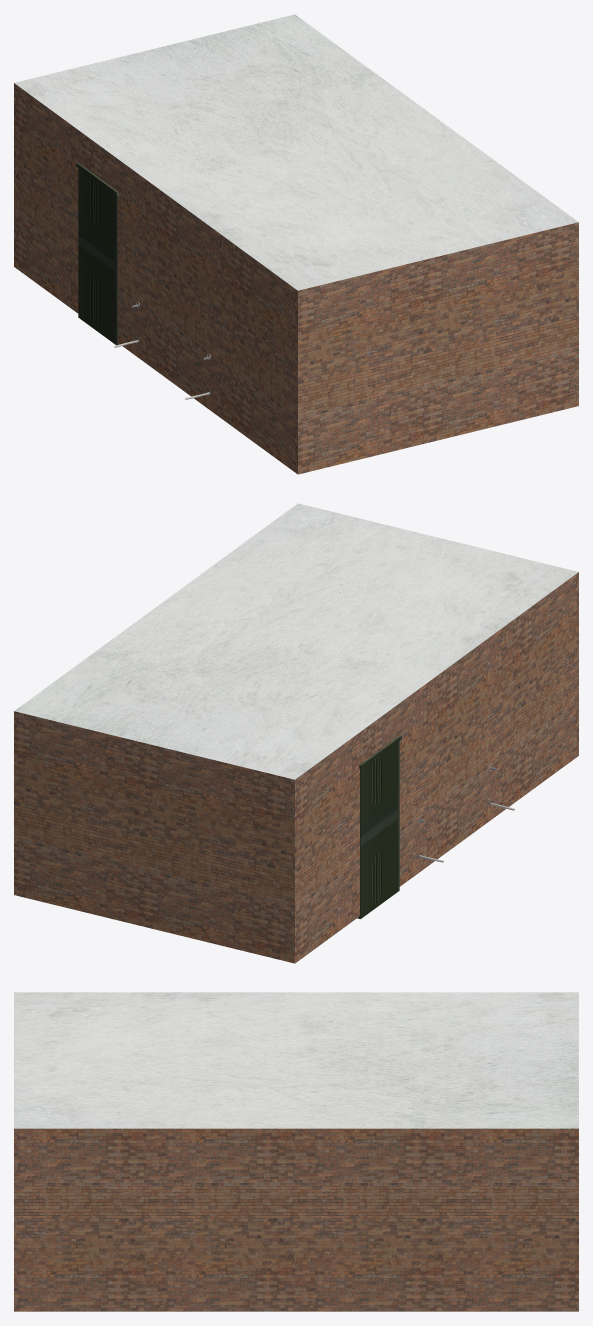
The model's file is kleedkamer.obj.
3 renders of one model, top to bottom at view 1: azimuth 30°, elevation 25°; view 2: azimuth 150°, elevation 25°; view 3: azimuth 270°, elevation 25°, orthographic.
Visible parts, largest first — view 1: Plane.005, Plane.004, Plane.001, Cube.001; view 2: Plane.005, Plane.003, Plane.001, Cube.001; view 3: Plane.002, Plane.005.
Part boxes in pixels (bbox=[...]): Plane.005: bbox=[14, 14, 578, 290]; Plane.004: bbox=[298, 222, 578, 474]; Plane.001: bbox=[14, 83, 297, 474]; Cube.001: bbox=[76, 162, 119, 345]; Plane.005: bbox=[14, 503, 578, 779]; Plane.003: bbox=[14, 711, 294, 963]; Plane.001: bbox=[295, 572, 578, 963]; Cube.001: bbox=[357, 735, 401, 918]; Plane.002: bbox=[14, 1128, 578, 1311]; Plane.005: bbox=[14, 992, 578, 1128].
Bounding box in the file's own units: 4.34 × 2.54 × 7.
